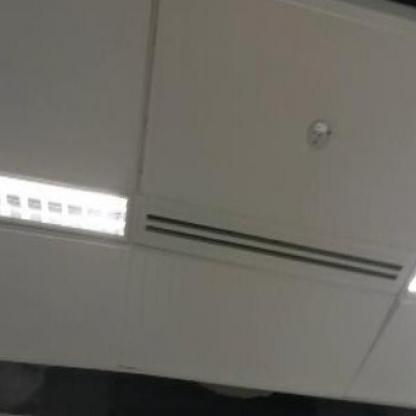light_on: (0, 140, 138, 254), (396, 236, 415, 326)
